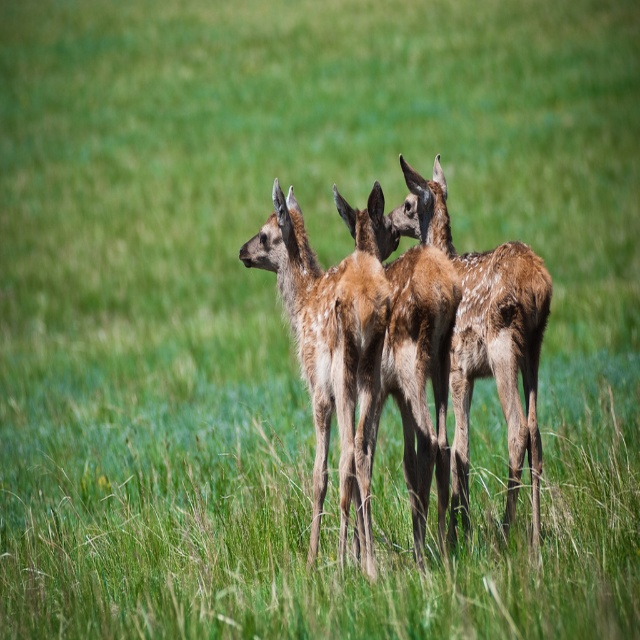Deer: (237, 177, 392, 585), (399, 149, 554, 547), (333, 179, 463, 569)
